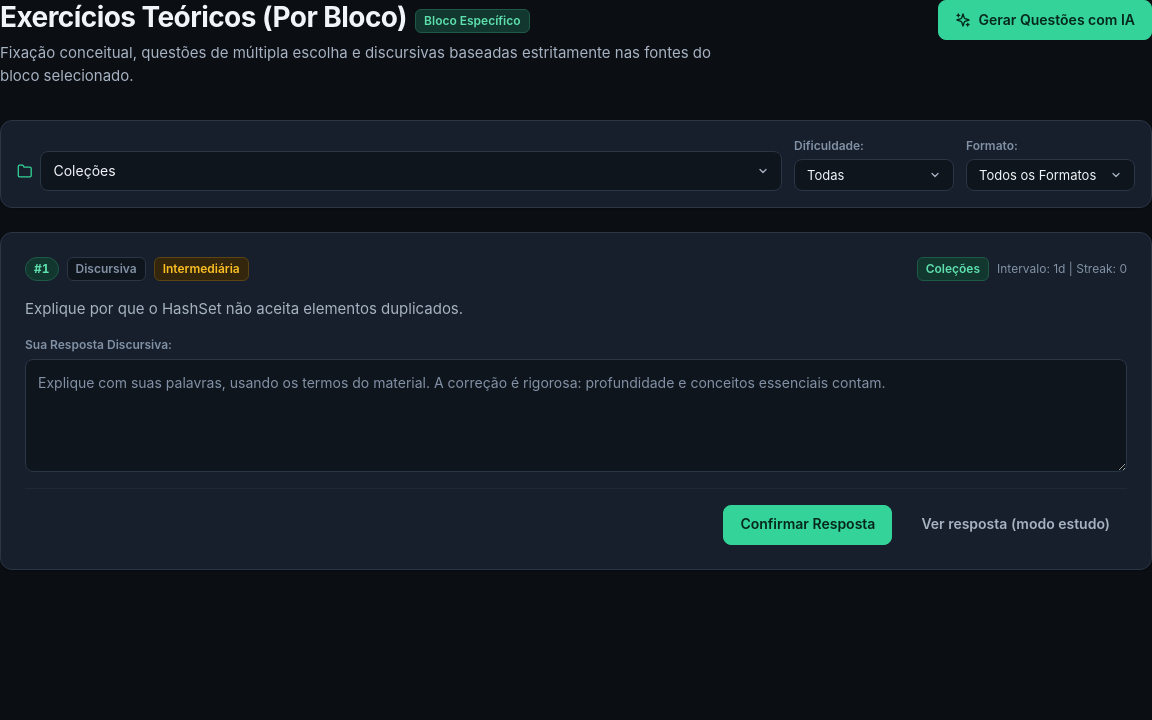
Test: TheoreticalQuestionsPage — questão aberta › feedback de erro mostra correção, resposta correta, explicação e erros comuns
In the text box: (576, 415) top-left (25, 359), bottom-right (1127, 472), type "Lança exceção."
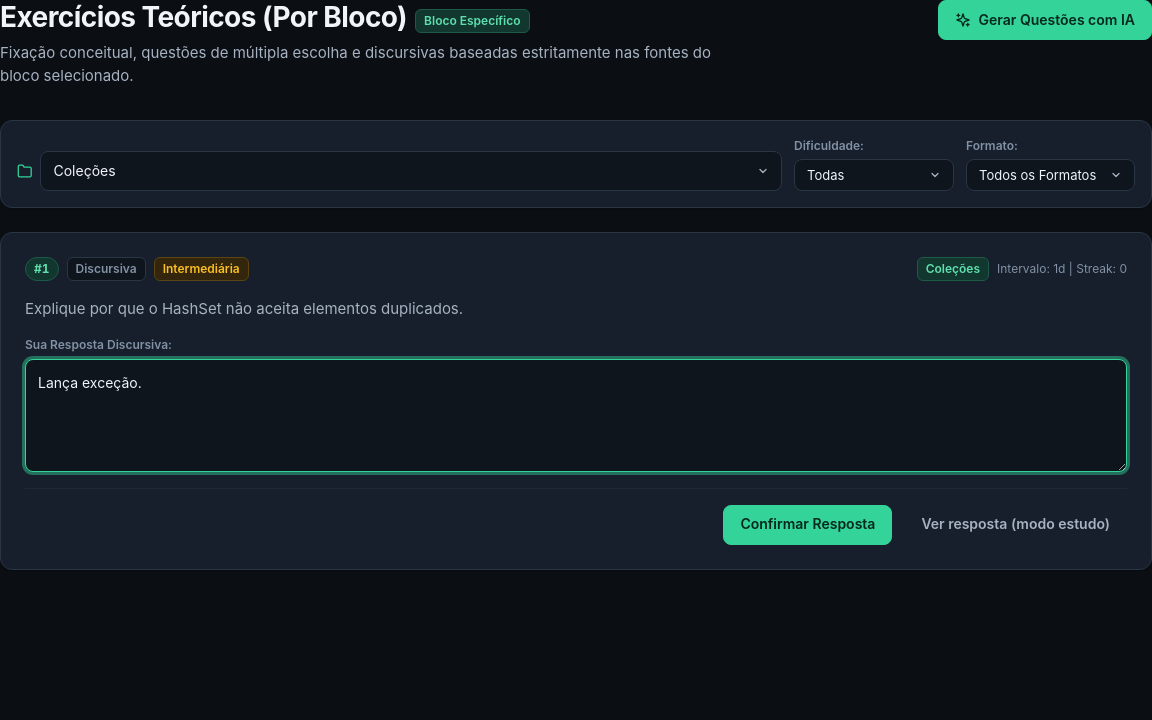
Click the button "Confirmar Resposta": (808, 525) top-left (723, 505), bottom-right (892, 545)
(page scrolled)
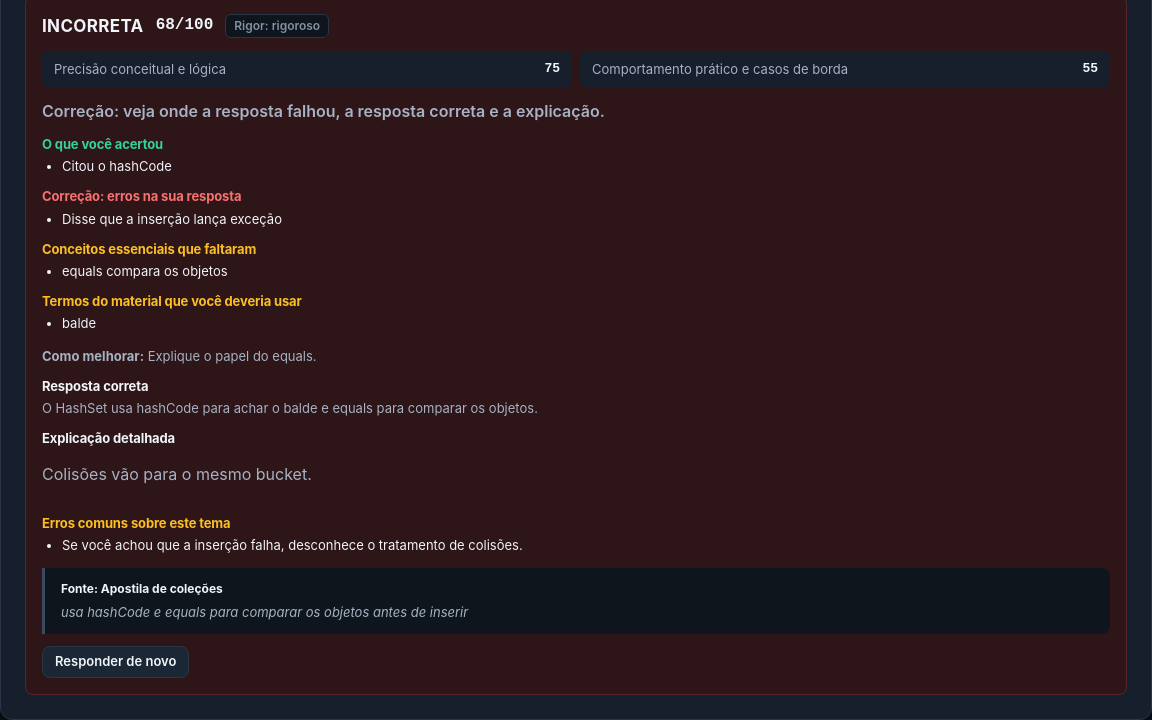
Now the text "Correção: veja onde" is shown, box top-left (42, 101), bottom-right (605, 121)
Now the list item "Disse que a inserção lança exceção" is shown, box top-left (62, 211), bottom-right (282, 227)
Now the heading "Resposta correta" is shown, box top-left (42, 378), bottom-right (148, 394)
